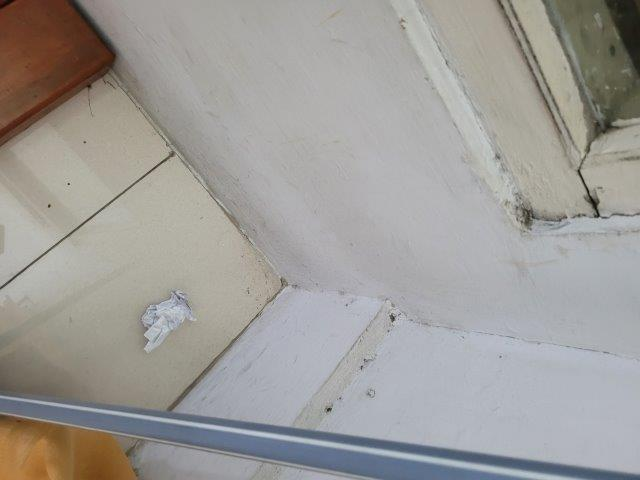kertas: (143, 289, 196, 356)
